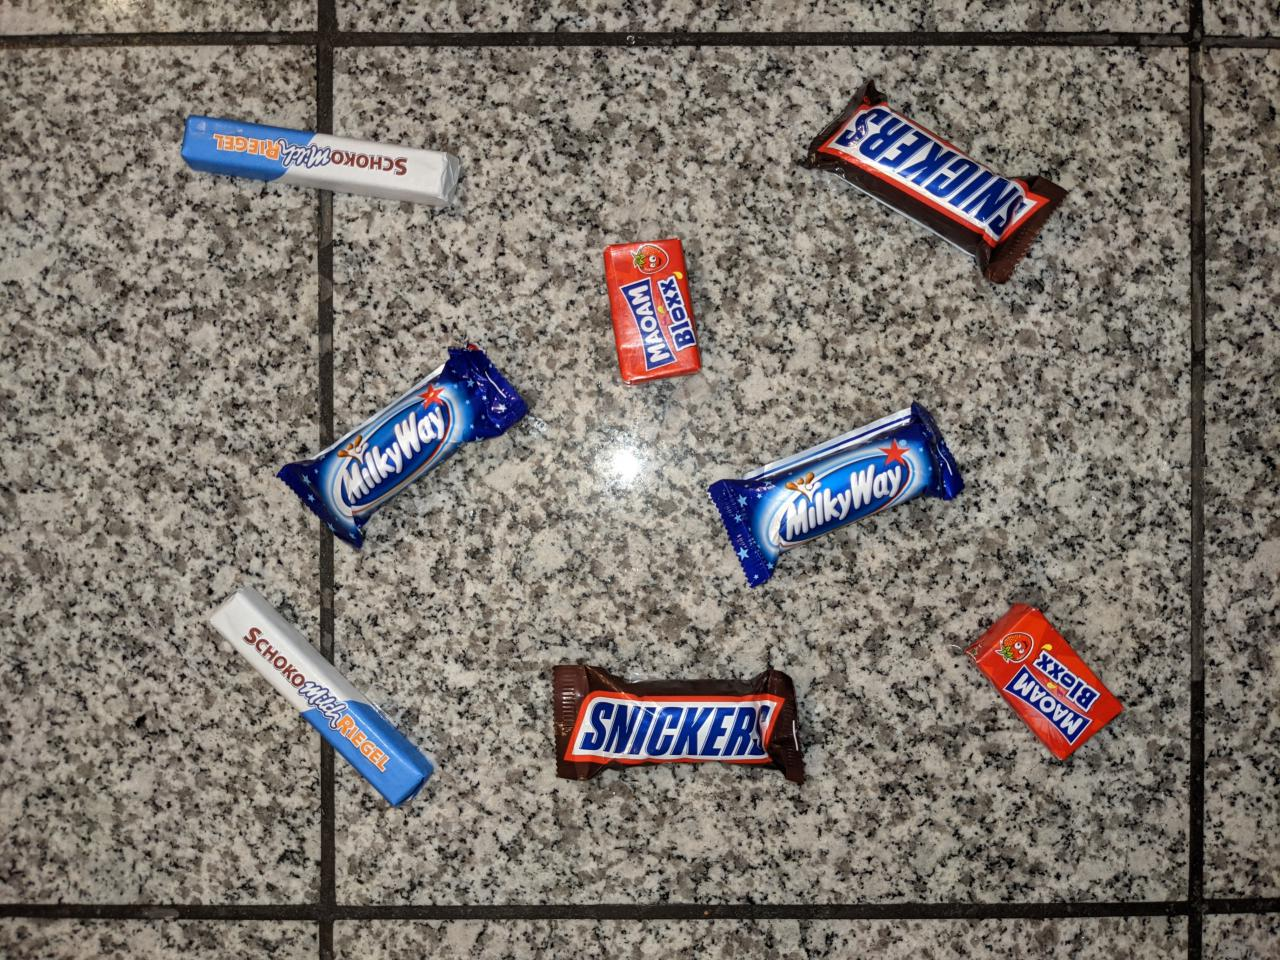MAOAM: (958, 598, 1127, 765), (600, 234, 706, 391)
MilkyWay: (272, 341, 536, 556), (703, 398, 968, 594)
Schokoriegel: (203, 579, 437, 812), (178, 112, 464, 214)
Snickers: (791, 74, 1076, 289), (547, 657, 813, 792)
